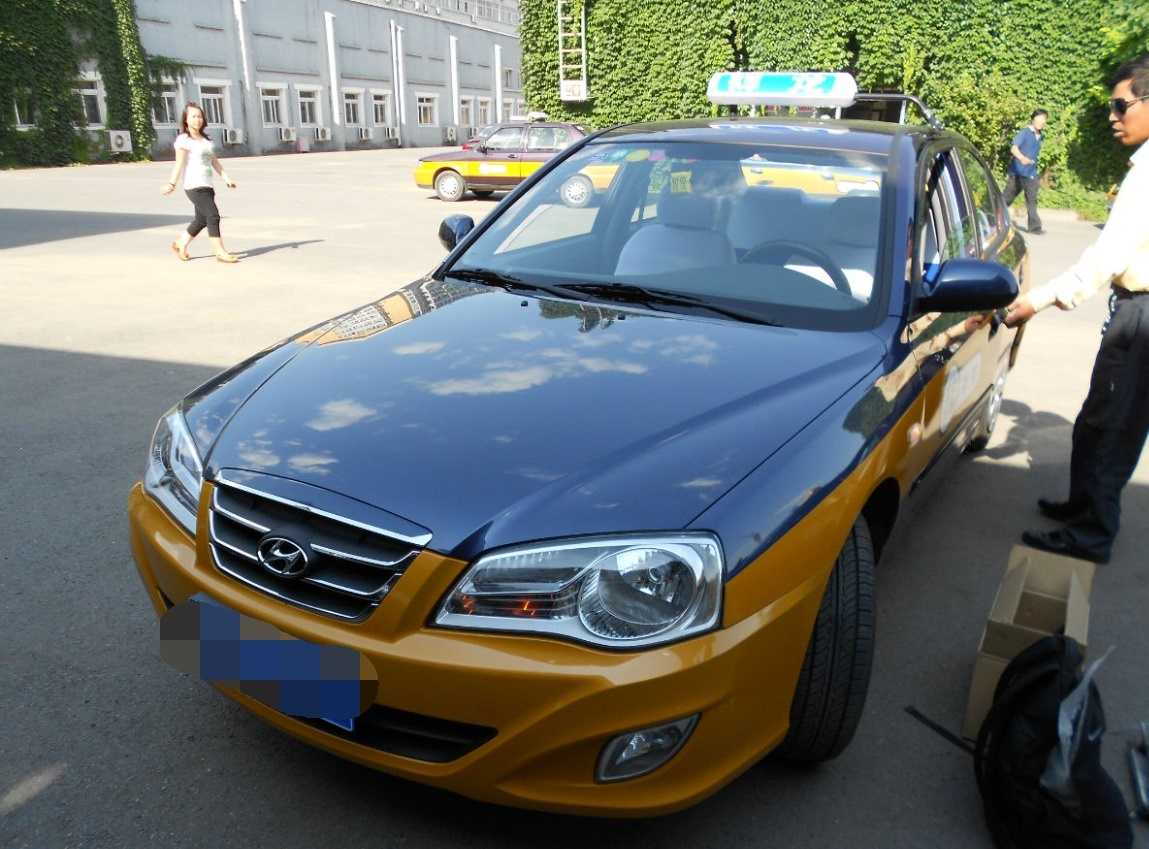taxi: (169, 109, 1034, 787)
